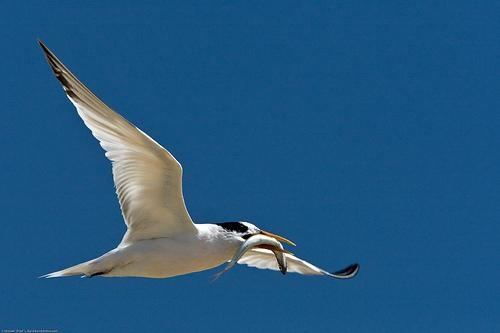bird: (33, 37, 362, 283)
